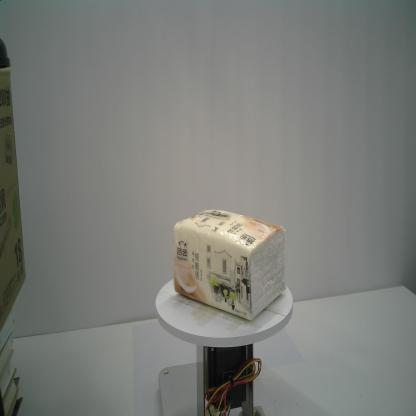Tissue: (172, 210, 287, 321)
